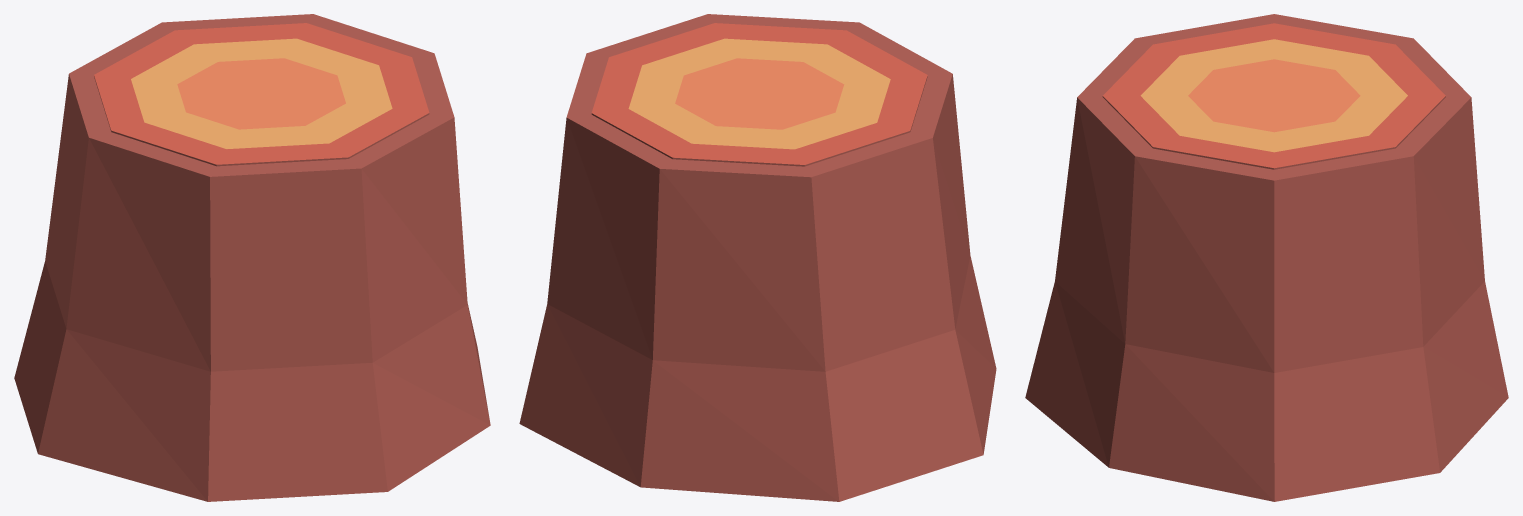
Rendered from Stump6_autumn.FBX.
The picture shows the model from 3 angles, left to right: view 1: azimuth 30°, elevation 25°; view 2: azimuth 150°, elevation 25°; view 3: azimuth 270°, elevation 25°; orthographic projection.
Visible parts, largest first — view 1: Object002; view 2: Object002; view 3: Object002.
Boxes of the visible parts, <box> form: Object002: <box>14,14,490,501</box>; Object002: <box>519,14,996,501</box>; Object002: <box>1025,14,1508,501</box>.
Bounding box in the file's own units: 0.9217 × 0.6128 × 0.8889.
